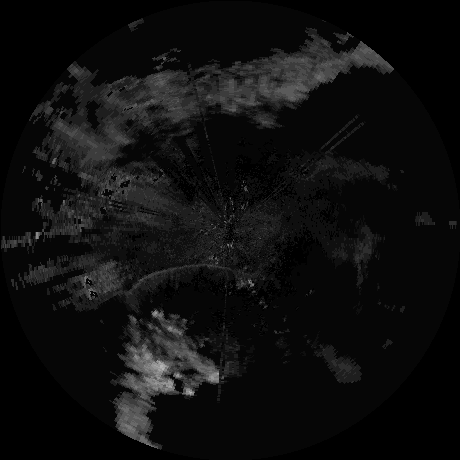frontgust: (127, 262, 253, 295)
